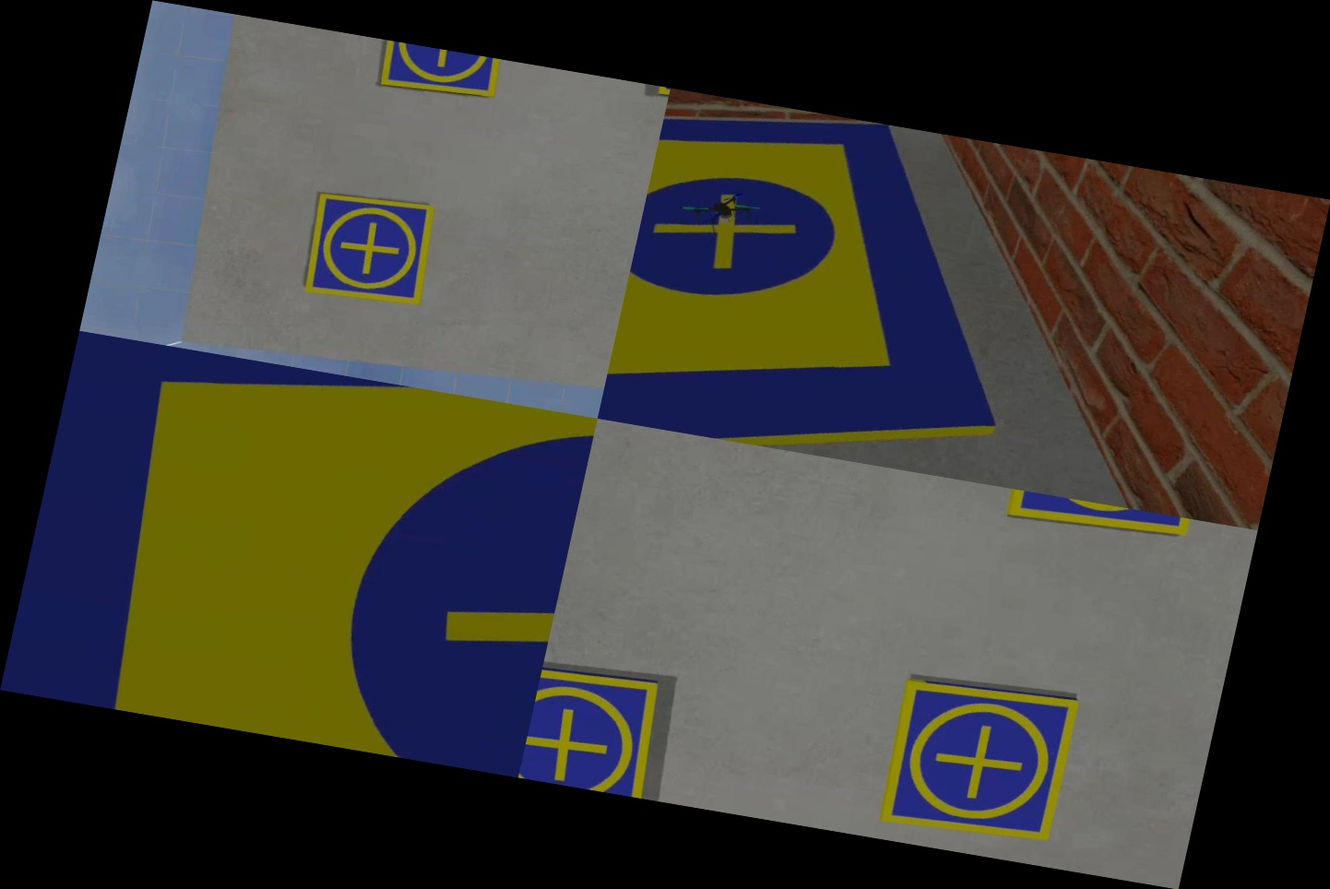large_base: (0, 331, 598, 777), (598, 88, 1071, 486)
small_base: (866, 666, 1092, 857), (518, 662, 672, 799), (298, 185, 446, 311), (374, 40, 503, 106)
